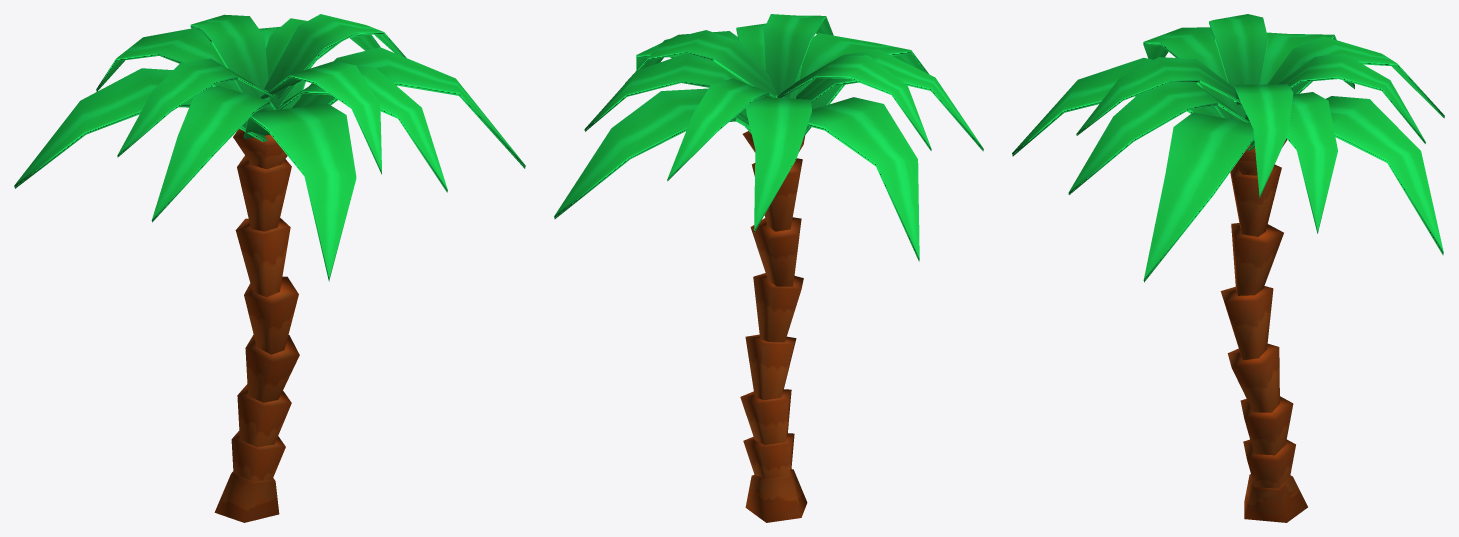
Rendered from ArabianPalm_02.fbx.
3 renders of one model, left to right at view 1: azimuth 30°, elevation 25°; view 2: azimuth 150°, elevation 25°; view 3: azimuth 270°, elevation 25°, orthographic. The views are drawn at different scales.
Parts seen in each view (by area): view 1: ArabianPalm_02; view 2: ArabianPalm_02; view 3: ArabianPalm_02.
Boxes of the visible parts, <box> form: ArabianPalm_02: <box>14,14,525,522</box>; ArabianPalm_02: <box>554,14,983,522</box>; ArabianPalm_02: <box>1012,14,1444,522</box>.
Bounding box in the file's own units: 400 × 440 × 377.
